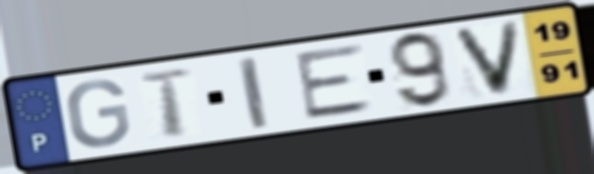9: (386, 30, 453, 111)
E: (292, 41, 377, 123)
G: (64, 77, 134, 150)
I: (235, 53, 273, 132)
T: (136, 66, 198, 140)
V: (448, 18, 526, 99)
